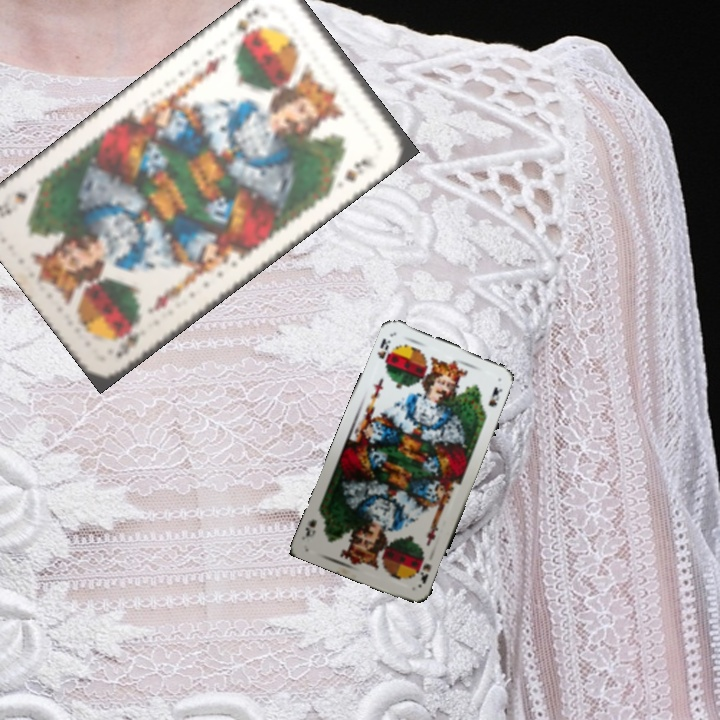SK: (230, 3, 263, 47), (111, 329, 142, 360), (373, 334, 396, 371), (413, 553, 434, 586)
